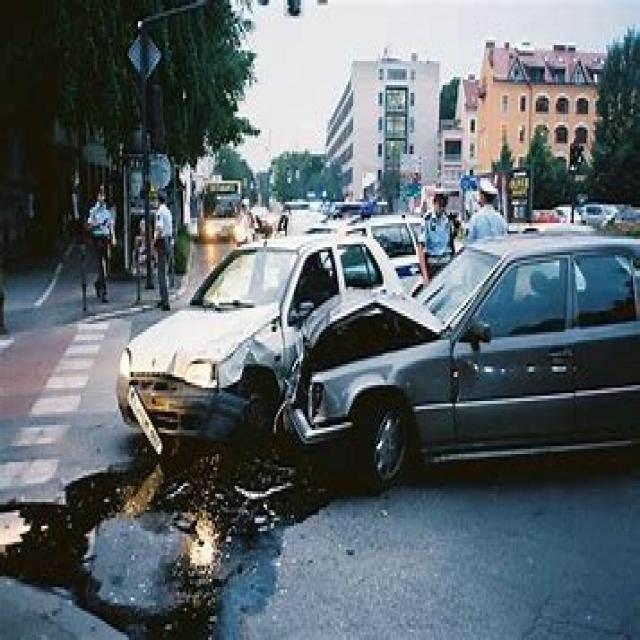Accident: (108, 190, 514, 525)
